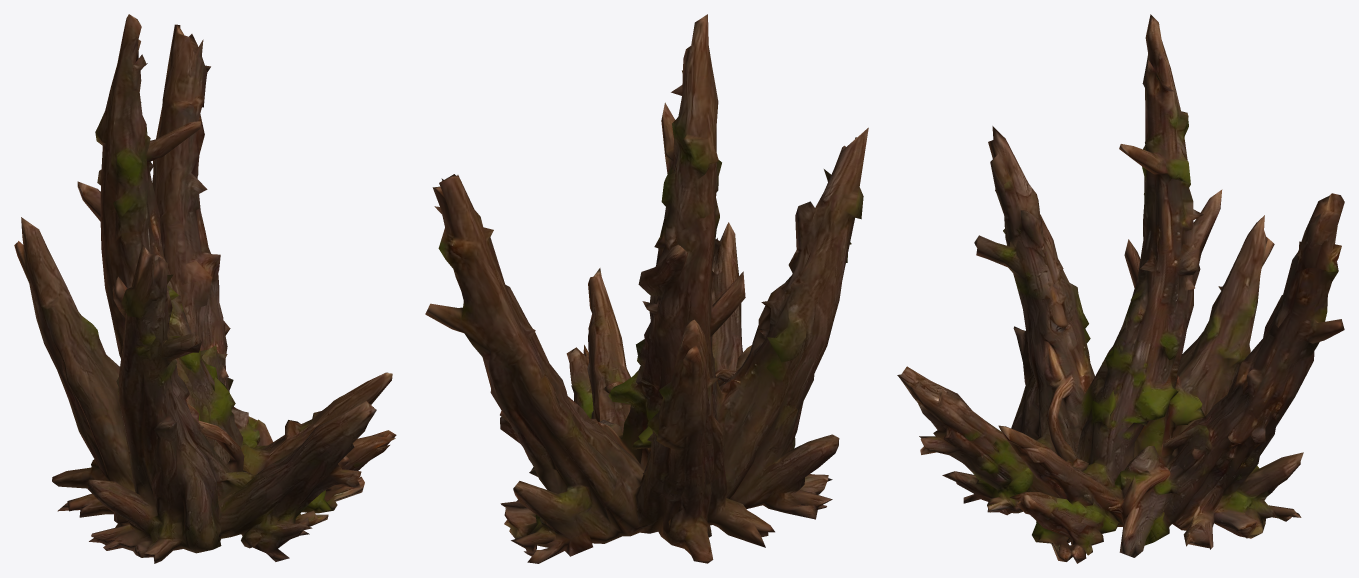
Rendered from root_spike.glb.
3 renders of one model, left to right at view 1: azimuth 30°, elevation 25°; view 2: azimuth 150°, elevation 25°; view 3: azimuth 270°, elevation 25°, orthographic. The views are drawn at different scales.
Visible parts, largest first — view 1: tripo_node_c2c5e2f7-29a6-4ba7-b14e-d0433a894331; view 2: tripo_node_c2c5e2f7-29a6-4ba7-b14e-d0433a894331; view 3: tripo_node_c2c5e2f7-29a6-4ba7-b14e-d0433a894331.
Part boxes in pixels (bbox=[...]): tripo_node_c2c5e2f7-29a6-4ba7-b14e-d0433a894331: bbox=[14, 14, 396, 563]; tripo_node_c2c5e2f7-29a6-4ba7-b14e-d0433a894331: bbox=[425, 14, 868, 563]; tripo_node_c2c5e2f7-29a6-4ba7-b14e-d0433a894331: bbox=[897, 14, 1344, 563].
Bounding box in the file's own units: 0.6084 × 1 × 0.8785.
Materials: 1 (1 with a texture image).
